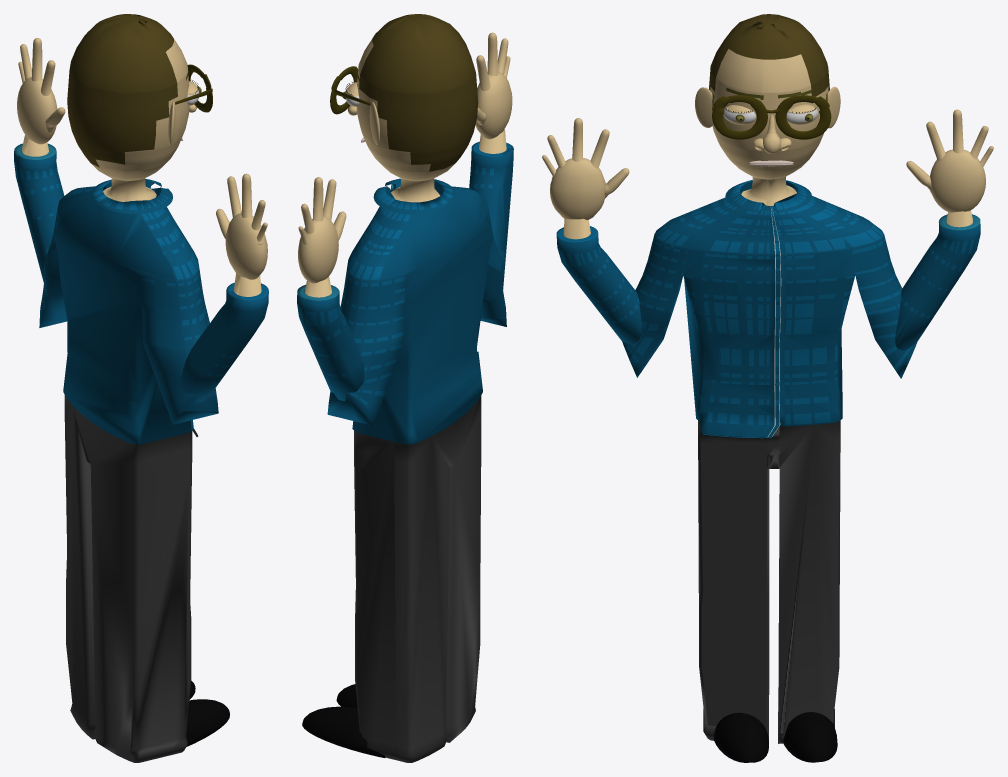
Rendered from jeremy1.fbx.
3 renders of one model, left to right at view 1: azimuth 30°, elevation 25°; view 2: azimuth 150°, elevation 25°; view 3: azimuth 270°, elevation 25°, orthographic.
Parts seen in each view (by area): view 1: Jeremymesh; view 2: Jeremymesh; view 3: Jeremymesh.
Boxes of the visible parts, x1,y1,x2,y2 form: Jeremymesh: (14, 14, 268, 762); Jeremymesh: (297, 14, 513, 762); Jeremymesh: (542, 14, 993, 762).
Size of the model in its own units: 268 by 1280 by 738.
